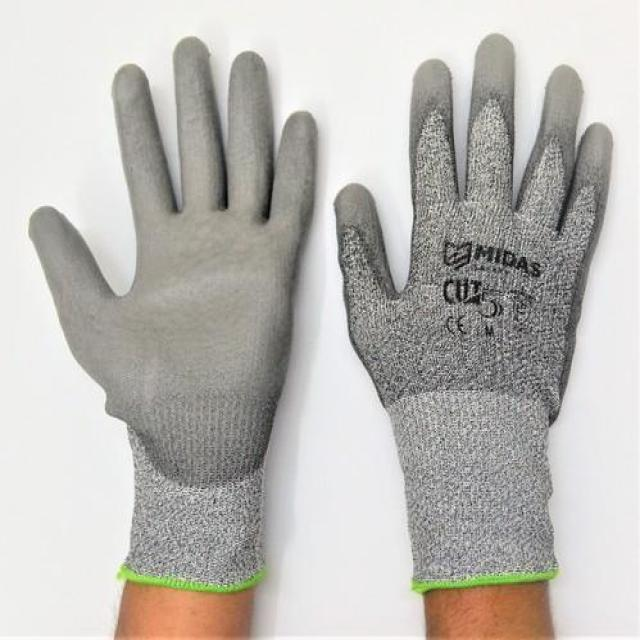gloves: (332, 29, 616, 592), (31, 38, 309, 589)
